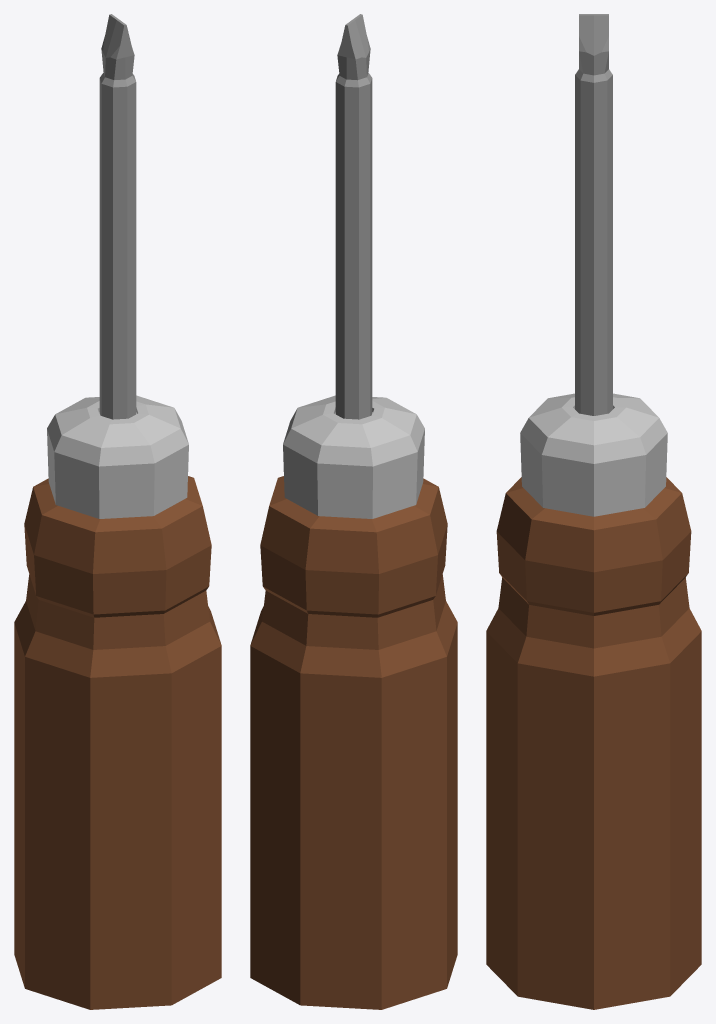
Rendered from screwdriver02.obj.
3 renders of one model, left to right at view 1: azimuth 30°, elevation 25°; view 2: azimuth 150°, elevation 25°; view 3: azimuth 270°, elevation 25°, orthographic.
Parts seen in each view (by area): view 1: Cylinder_Cylinder.001; view 2: Cylinder_Cylinder.001; view 3: Cylinder_Cylinder.001.
Boxes of the visible parts, x1,y1,x2,y2 form: Cylinder_Cylinder.001: (14,14,221,1009); Cylinder_Cylinder.001: (250,14,457,1009); Cylinder_Cylinder.001: (486,14,701,1009).
Size of the model in its own units: 0.0246 by 0.1194 by 0.0246.
Materials: 1 (1 with a texture image).
